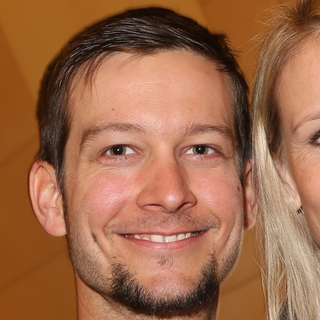eye: (94, 141, 144, 163), (174, 140, 225, 161)
